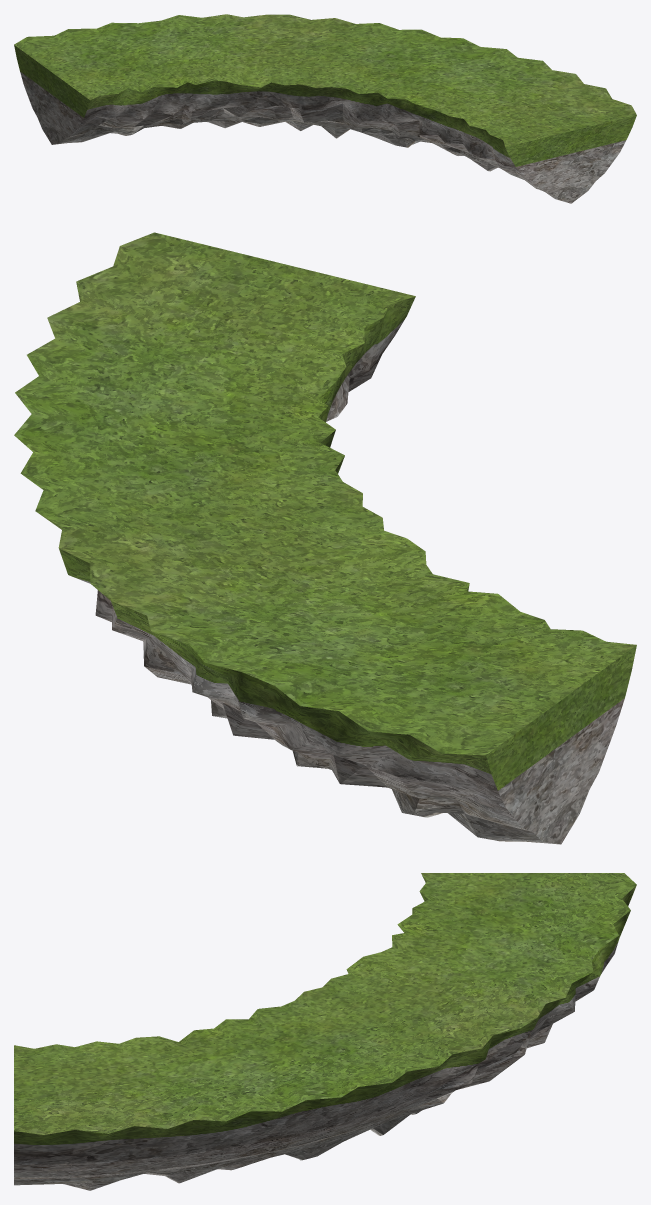
Rendered from Bocht90_short_Flipped.FBX.
3 renders of one model, top to bottom at view 1: azimuth 30°, elevation 25°; view 2: azimuth 150°, elevation 25°; view 3: azimuth 270°, elevation 25°, orthographic. The views are drawn at different scales.
Visible parts, largest first — view 1: Bocht90_Way_Short_Flipped_Final003; view 2: Bocht90_Way_Short_Flipped_Final003; view 3: Bocht90_Way_Short_Flipped_Final003.
Part boxes in pixels (x1,y1,x2,y2): Bocht90_Way_Short_Flipped_Final003: (14,14,636,203); Bocht90_Way_Short_Flipped_Final003: (14,232,636,844); Bocht90_Way_Short_Flipped_Final003: (14,873,636,1190).
Size of the model in its own units: 1218 by 245 by 1224.
